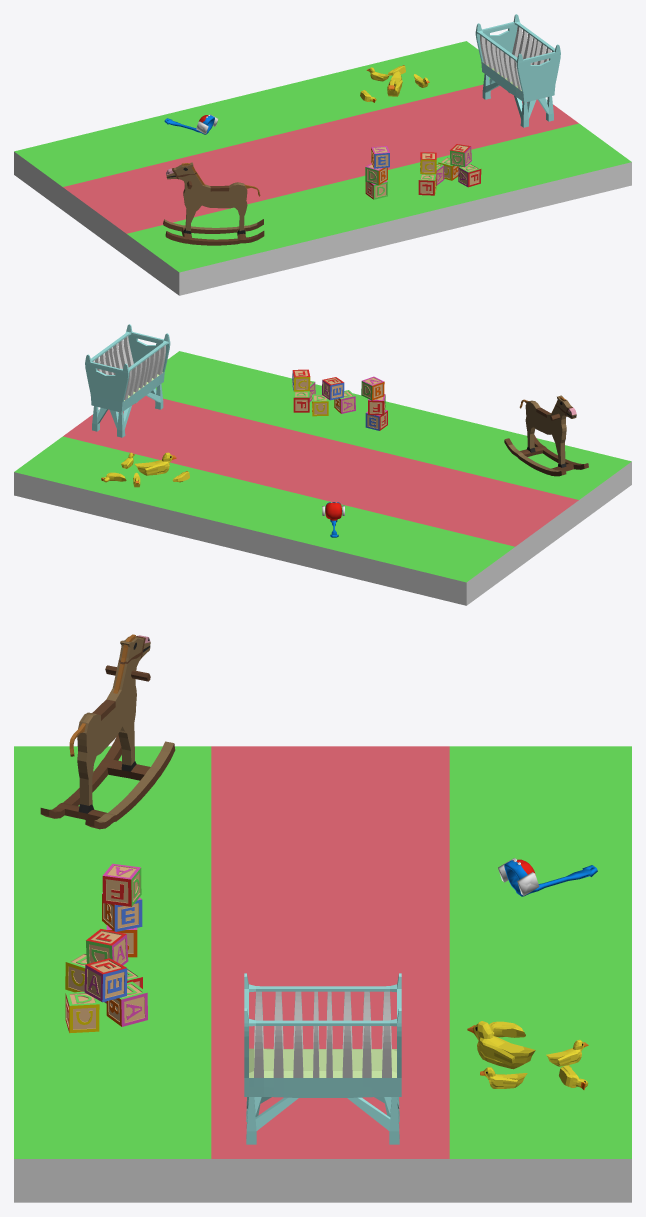
Rendered from babyscene.fbx.
3 renders of one model, top to bottom at view 1: azimuth 30°, elevation 25°; view 2: azimuth 150°, elevation 25°; view 3: azimuth 270°, elevation 25°, orthographic. The views are drawn at different scales.
Parts seen in each view (by area): view 1: Cube, Cube.001, Cube.007, Cube.015, Cube.014, Cube.017, Cube.010; view 2: Cube, Cube.001, Cube.007, Cube.002, Cube.010, Cube.013, Cube.017, Cube.014; view 3: Cube, Cube.001, Cube.007, Cube.002, Cube.014, Cube.010, Cube.017, Cube.015, Cube.016, Cube.013, Cube.009.
Part boxes in pixels (<box>): Cube: <box>14,41,631,295</box>; Cube.001: <box>475,14,560,127</box>; Cube.007: <box>163,162,264,245</box>; Cube.015: <box>458,163,481,187</box>; Cube.014: <box>449,144,471,167</box>; Cube.017: <box>164,114,218,134</box>; Cube.010: <box>371,146,389,168</box>; Cube: <box>14,351,631,605</box>; Cube.001: <box>85,324,170,437</box>; Cube.007: <box>504,395,588,476</box>; Cube.002: <box>134,452,176,475</box>; Cube.010: <box>361,376,384,400</box>; Cube.013: <box>322,377,344,400</box>; Cube.017: <box>322,502,344,537</box>; Cube.014: <box>292,369,310,391</box>; Cube: <box>14,746,631,1202</box>; Cube.001: <box>244,973,401,1144</box>; Cube.007: <box>40,634,175,829</box>; Cube.002: <box>467,1021,535,1069</box>; Cube.014: <box>84,958,127,1002</box>; Cube.010: <box>102,863,141,906</box>; Cube.017: <box>498,858,597,896</box>; Cube.015: <box>65,991,99,1033</box>; Cube.016: <box>106,981,147,1026</box>; Cube.013: <box>86,929,128,965</box>; Cube.009: <box>102,893,142,931</box>.
Bounding box in the file's own units: 4052 × 859 × 2565.
